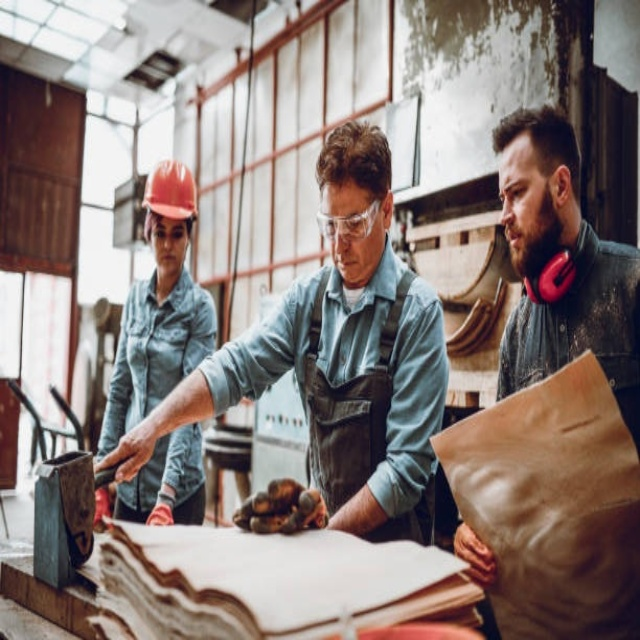Gafas: (316, 196, 383, 240)
Guantes: (144, 475, 185, 529)
Sin_gafas: (498, 166, 538, 213), (152, 221, 186, 245)
Sin_guantes: (99, 424, 156, 485), (453, 521, 497, 590)
Sin_mascara: (502, 224, 533, 276), (333, 254, 360, 279), (156, 249, 175, 271)
